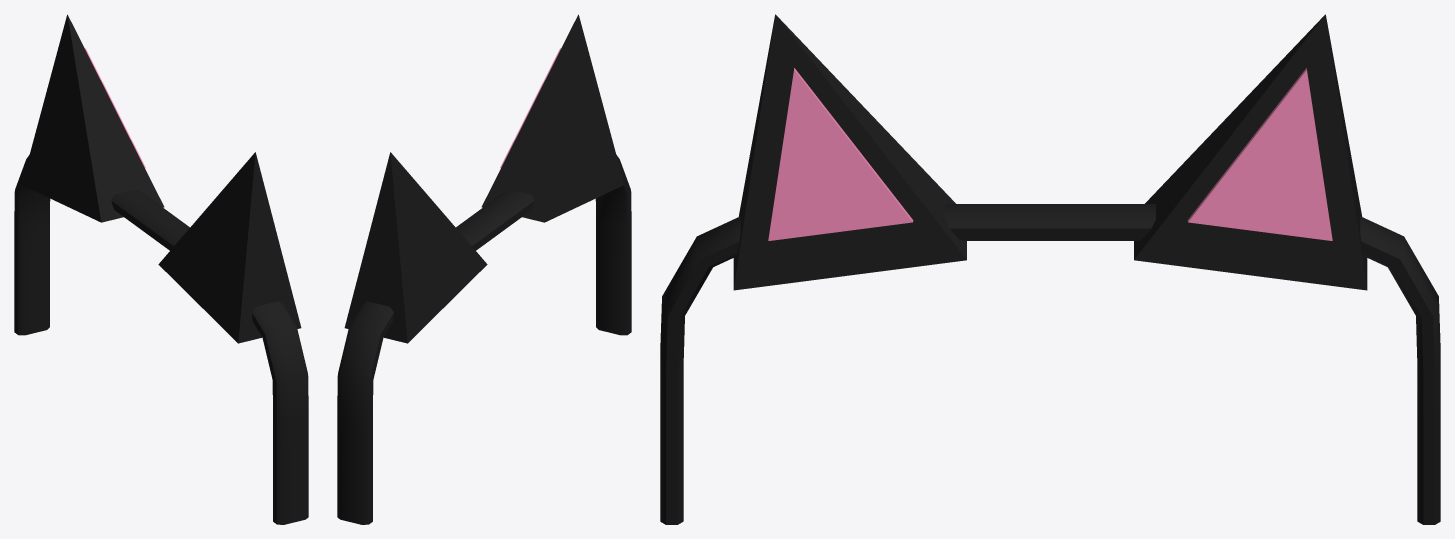
File: acc_cat_ears.glb
3 renders of one model, left to right at view 1: azimuth 30°, elevation 25°; view 2: azimuth 150°, elevation 25°; view 3: azimuth 270°, elevation 25°, orthographic. The views are drawn at different scales.
Parts seen in each view (by area): view 1: CatEars; view 2: CatEars; view 3: CatEars.
Part boxes in pixels (bbox=[...]): CatEars: bbox=[14, 14, 308, 524]; CatEars: bbox=[337, 14, 631, 524]; CatEars: bbox=[660, 14, 1440, 524].
Bounding box in the file's own units: 0.064 × 0.3305 × 0.468.
